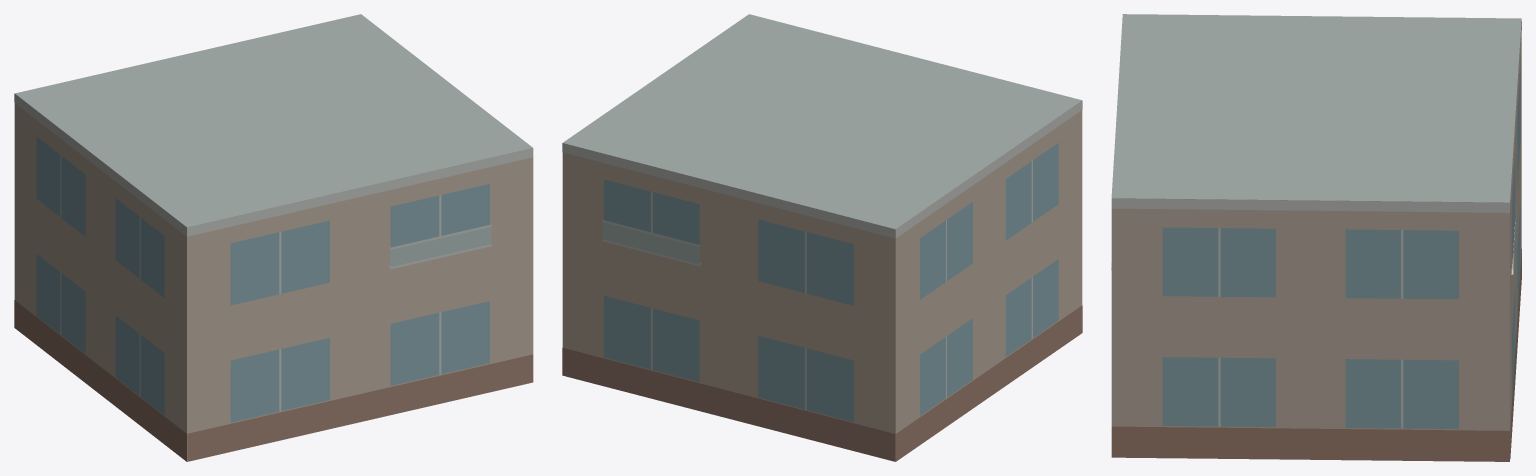
File: survey-upis-32858108.glb
3 renders of one model, left to right at view 1: azimuth 30°, elevation 25°; view 2: azimuth 150°, elevation 25°; view 3: azimuth 270°, elevation 25°, orthographic. The views are drawn at different scales.
Parts seen in each view (by area): view 1: survey-upis-32858108.tmp; view 2: survey-upis-32858108.tmp; view 3: survey-upis-32858108.tmp.
Boxes of the visible parts, x1=… form: survey-upis-32858108.tmp: x1=14, y1=14, x2=533, y2=461; survey-upis-32858108.tmp: x1=562, y1=14, x2=1082, y2=461; survey-upis-32858108.tmp: x1=1111, y1=14, x2=1521, y2=461.
Size of the model in its own units: 9.52 by 6.1 by 8.76.
